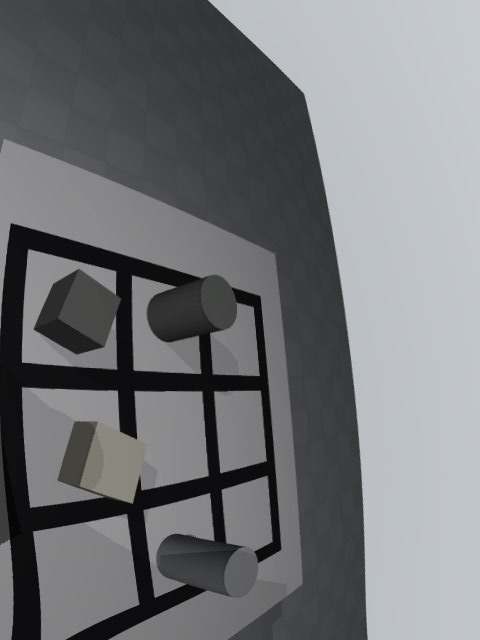can: (156, 534, 258, 598)
cube: (34, 269, 121, 355)
cylinder: (147, 275, 237, 342)
foam: (57, 421, 148, 504)
